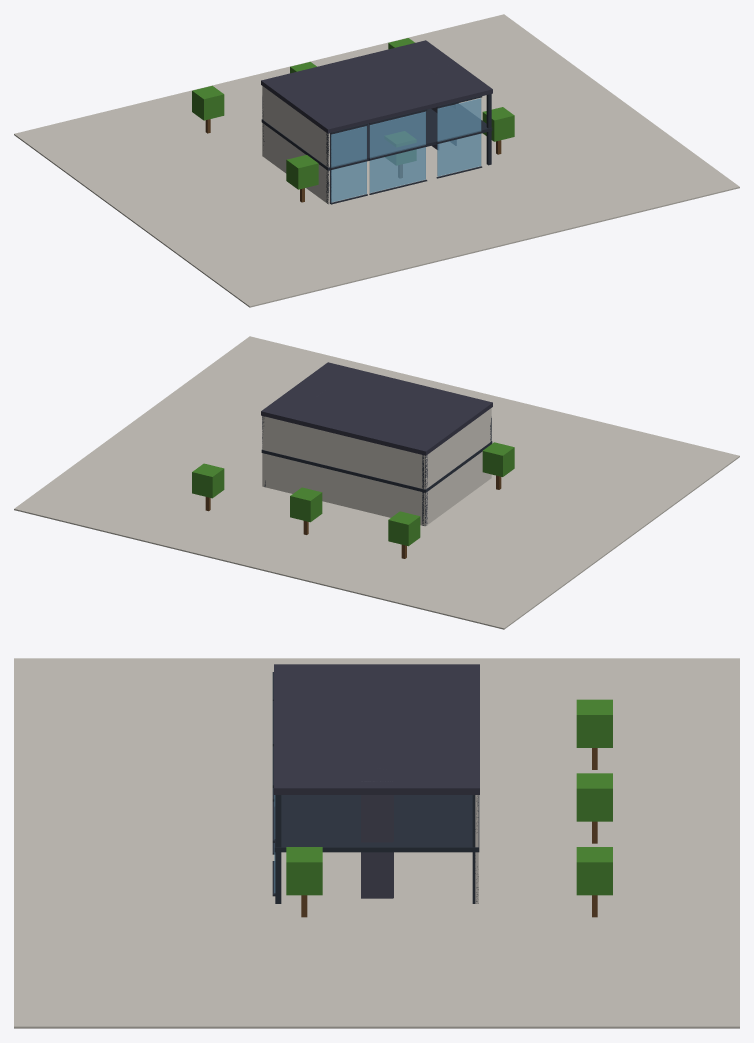
Rendered from meridian_tower.glb.
3 views of the same model, one above another, from view 1: azimuth 30°, elevation 25°; view 2: azimuth 150°, elevation 25°; view 3: azimuth 270°, elevation 25° (orthographic). The views are drawn at different scales.
Visible parts, largest first — view 1: meridian_tower; view 2: meridian_tower; view 3: meridian_tower.
Boxes of the visible parts, x1,y1,x2,y2 form: meridian_tower: (14,14,739,307); meridian_tower: (14,336,739,629); meridian_tower: (14,658,739,1028).
Size of the model in its own units: 60 by 9.15 by 50.
